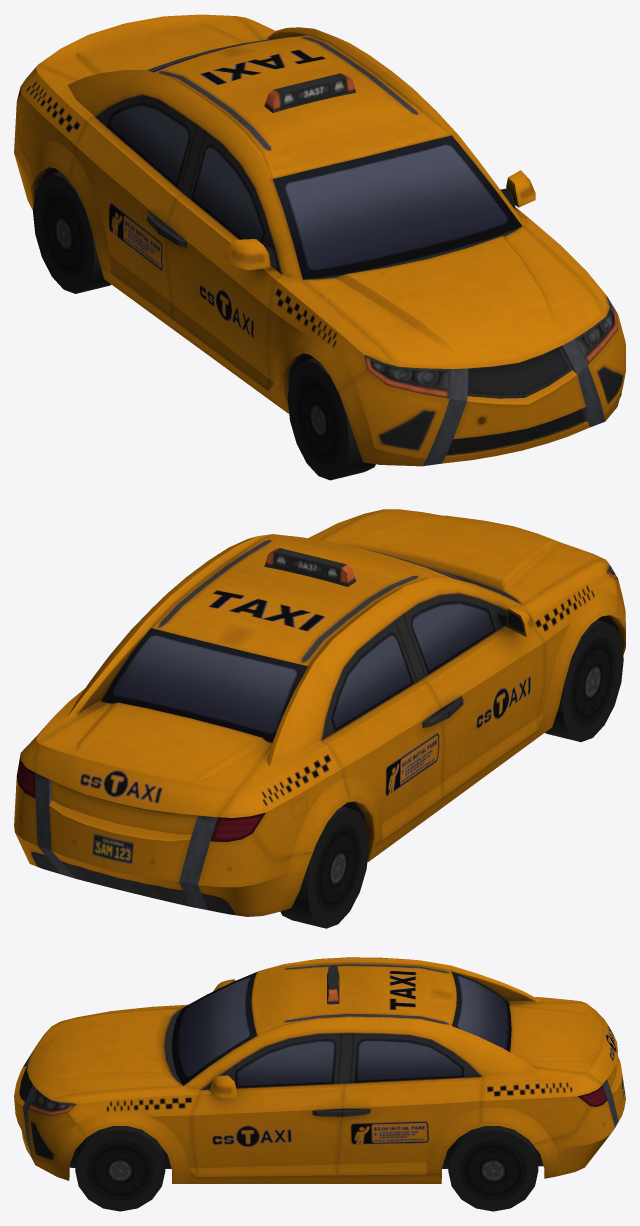
Rendered from taxi.glb.
The picture shows the model from 3 angles, top to bottom: view 1: azimuth 30°, elevation 25°; view 2: azimuth 150°, elevation 25°; view 3: azimuth 270°, elevation 25°; orthographic projection. The views are drawn at different scales.
Parts seen in each view (by area): view 1: e7_taxi_0__0; view 2: e7_taxi_0__0; view 3: e7_taxi_0__0.
Part boxes in pixels (bbox=[...]): e7_taxi_0__0: bbox=[14, 14, 625, 480]; e7_taxi_0__0: bbox=[14, 509, 625, 928]; e7_taxi_0__0: bbox=[14, 957, 625, 1211].
Bounding box in the file's own units: 227 × 182 × 544.
1 material, 1 textured.
